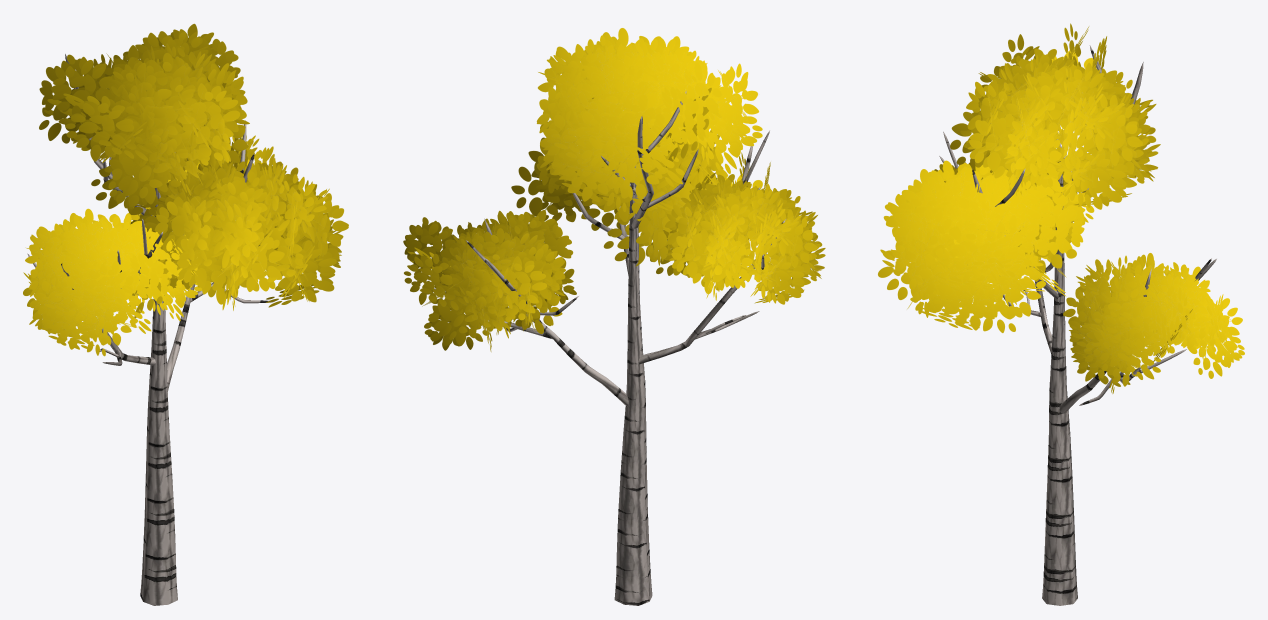
File: BirchTree_5.glb
The picture shows the model from 3 angles, left to right: view 1: azimuth 30°, elevation 25°; view 2: azimuth 150°, elevation 25°; view 3: azimuth 270°, elevation 25°; orthographic projection. The views are drawn at different scales.
Visible parts, largest first — view 1: BirchTree_5; view 2: BirchTree_5; view 3: BirchTree_5.
Part boxes in pixels (x1=…): BirchTree_5: x1=23, y1=23, x2=348, y2=605; BirchTree_5: x1=403, y1=28, x2=825, y2=605; BirchTree_5: x1=878, y1=23, x2=1244, y2=605.
Size of the model in its own units: 3.58 by 5.52 by 3.51.
2 materials, 2 textured.
